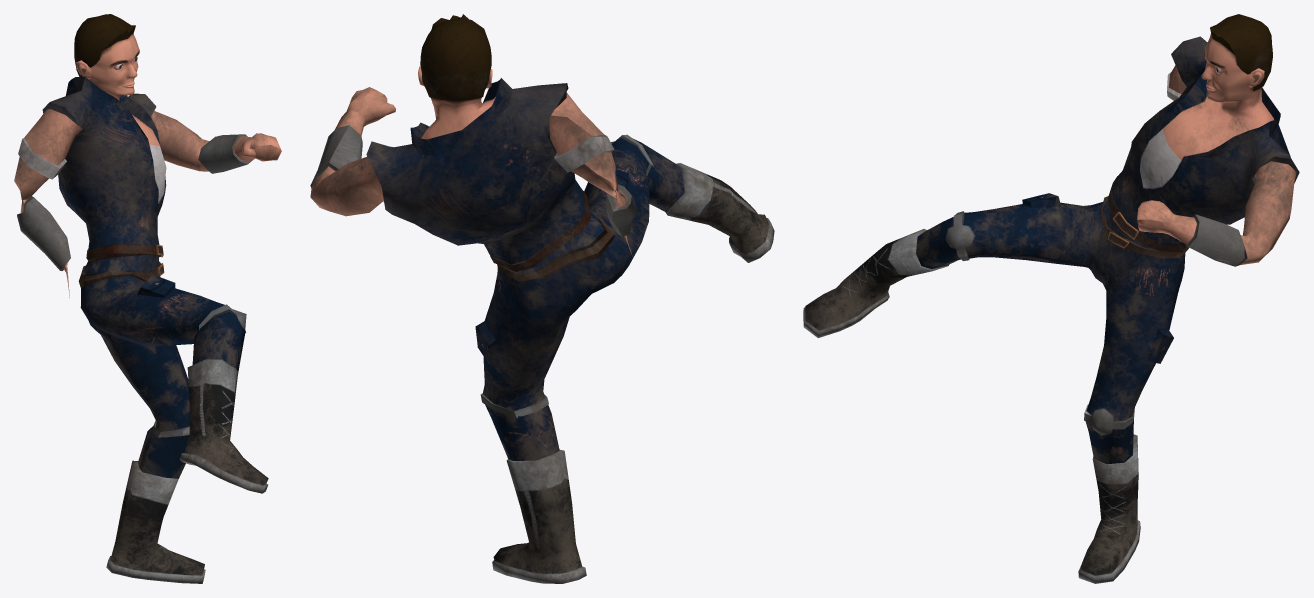
Rendered from Anim_ataque_f2_jugador.0016.obj.
The picture shows the model from 3 angles, left to right: view 1: azimuth 30°, elevation 25°; view 2: azimuth 150°, elevation 25°; view 3: azimuth 270°, elevation 25°; orthographic projection. The views are drawn at different scales.
Visible parts, largest first — view 1: polySurface1; view 2: polySurface1; view 3: polySurface1.
Part boxes in pixels (x1,y1,x2,y2): polySurface1: [14, 14, 281, 583]; polySurface1: [310, 14, 774, 583]; polySurface1: [803, 14, 1299, 583].
Size of the model in its own units: 4.64 by 9.18 by 7.52.
